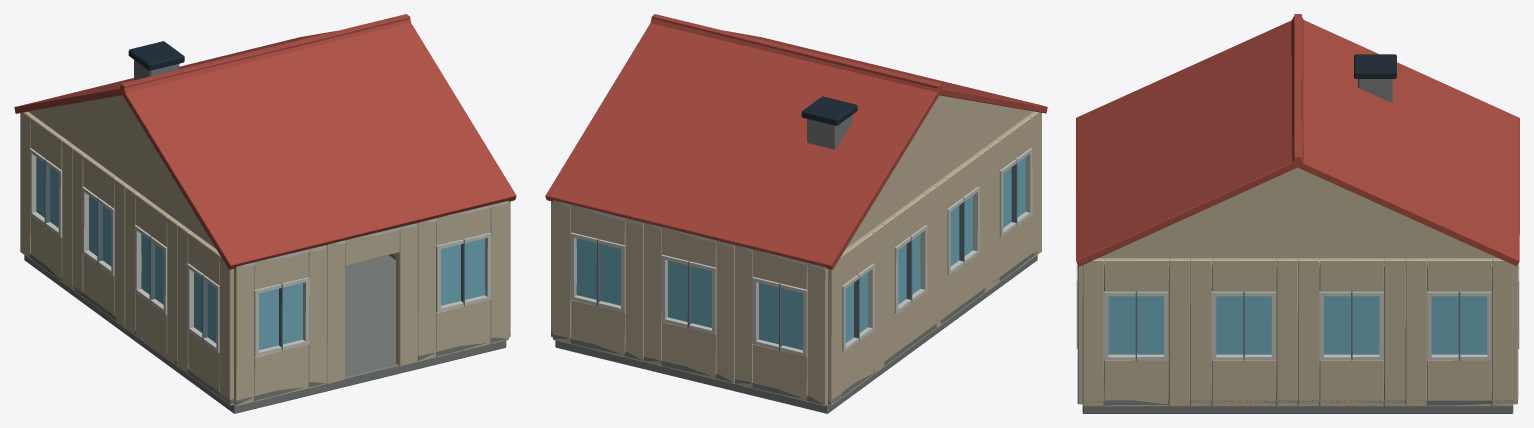
Rendered from architecture-house.lod1.glb.
3 views of the same model, side by side, from view 1: azimuth 30°, elevation 25°; view 2: azimuth 150°, elevation 25°; view 3: azimuth 270°, elevation 25° (orthographic). The views are drawn at different scales.
Visible parts, largest first — view 1: architecture-house__body; view 2: architecture-house__body; view 3: architecture-house__body.
Part boxes in pixels (left/top/right/bottom): architecture-house__body: left=14, top=14, right=516, bottom=413; architecture-house__body: left=545, top=14, right=1047, bottom=413; architecture-house__body: left=1076, top=14, right=1519, bottom=413.
Size of the model in its own units: 6.31 by 5.35 by 8.24.
